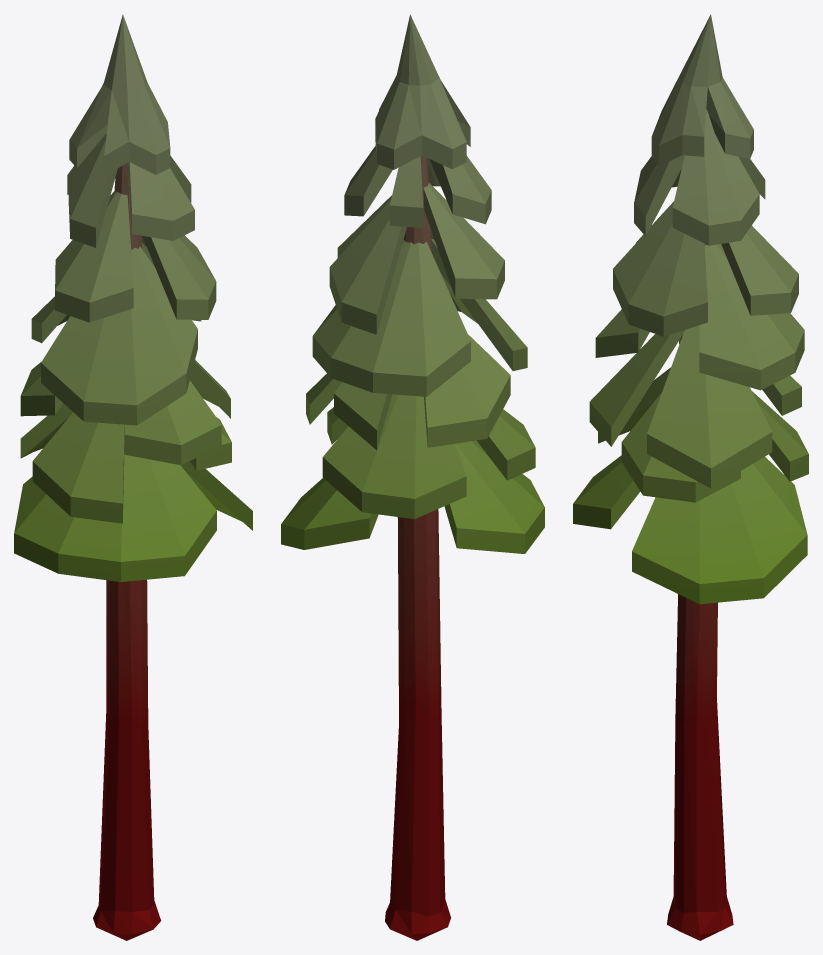
File: synty-tree-polypine-sparse-02.gltf
3 views of the same model, side by side, from view 1: azimuth 30°, elevation 25°; view 2: azimuth 150°, elevation 25°; view 3: azimuth 270°, elevation 25° (orthographic).
Visible parts, largest first — view 1: SM_Tree_PolyPine_Sparse_02; view 2: SM_Tree_PolyPine_Sparse_02; view 3: SM_Tree_PolyPine_Sparse_02.
Boxes of the visible parts, bbox=[...] form: SM_Tree_PolyPine_Sparse_02: bbox=[14, 14, 252, 940]; SM_Tree_PolyPine_Sparse_02: bbox=[281, 14, 544, 940]; SM_Tree_PolyPine_Sparse_02: bbox=[573, 14, 808, 940].
Bounding box in the file's own units: 1.48 × 5.78 × 1.33.
1 material, 1 textured.
